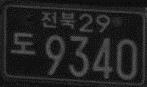0: (115, 38, 138, 81)
2: (78, 12, 94, 33)
3: (68, 34, 89, 78)
4: (91, 37, 114, 79)
9: (44, 33, 65, 75), (96, 13, 110, 34)
도: (10, 31, 37, 56)
전북_O: (40, 10, 75, 29)
